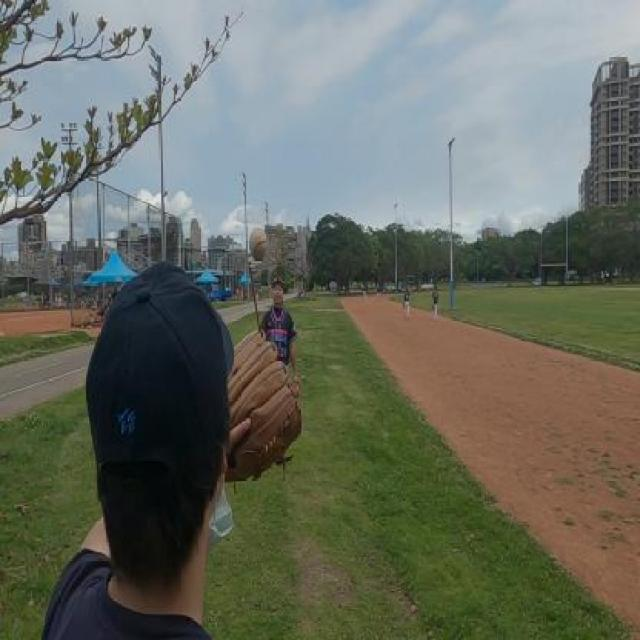baseball: (249, 227, 268, 261)
